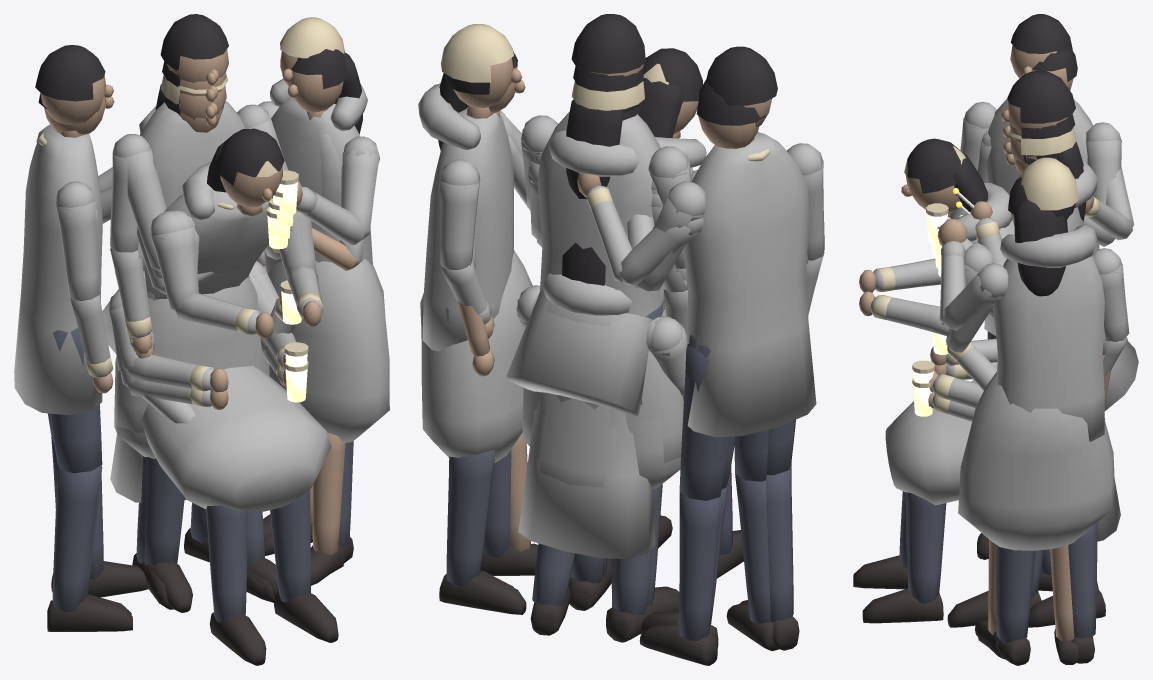
The model's file is people272.glb.
3 views of the same model, side by side, from view 1: azimuth 30°, elevation 25°; view 2: azimuth 150°, elevation 25°; view 3: azimuth 270°, elevation 25° (orthographic). The views are drawn at different scales.
Visible parts, largest first — view 1: f272-chat-BD.top, f272-bench-C.top, f272-chat-AC.topB, f272-lean-B.top, f272-chat-BD.topB, f272-drink-B.top, f272-chat-BD.bottom, f272-bench-D.bottom, f272-lean-C.top, f272-chat-AC.skinB, f272-chat-BD.shoe, f272-lean-D.top (+34 smaller); view 2: f272-chat-BD.top, f272-chat-BD.topB, f272-chat-AC.bottom, f272-bench-B.top, f272-chat-AC.topB, f272-lean-B.top, f272-smoke-B.top, f272-bench-D.top, f272-chat-BD.bottomB, f272-chat-BD.bottom, f272-drink-D.top, f272-chat-AC.top (+27 smaller); view 3: f272-chat-BD.topB, f272-chat-AC.topB, f272-bench-C.top, f272-chat-BD.top, f272-chat-BD.bottomB, f272-lean-B.top, f272-bench-D.bottom, f272-bench-B.shoe, f272-chat-AC.hairB, f272-chat-AC.skinB, f272-chat-BD.accentB, f272-lean-B.hair (+27 smaller).
Part boxes in pixels (x1,y1,x2,y2): f272-chat-BD.top: (14, 124, 112, 414); f272-bench-C.top: (141, 365, 331, 511); f272-chat-AC.topB: (268, 134, 389, 442); f272-lean-B.top: (102, 186, 323, 353); f272-chat-BD.topB: (257, 78, 380, 273); f272-drink-B.top: (110, 101, 288, 338); f272-chat-BD.bottom: (50, 328, 103, 611); f272-bench-D.bottom: (206, 489, 310, 622); f272-lean-C.top: (114, 206, 288, 432); f272-chat-AC.skinB: (287, 72, 355, 554); f272-chat-BD.shoe: (47, 561, 148, 631); f272-lean-D.top: (171, 161, 306, 294); f272-chat-BD.top: (627, 132, 824, 437); f272-chat-BD.topB: (418, 83, 523, 351); f272-chat-AC.bottom: (679, 344, 770, 640); f272-bench-B.top: (516, 285, 686, 558); f272-chat-AC.topB: (420, 135, 532, 463); f272-lean-B.top: (506, 167, 693, 416); f272-smoke-B.top: (521, 112, 691, 404); f272-bench-D.top: (532, 273, 663, 487); f272-chat-BD.bottomB: (445, 308, 511, 586); f272-chat-BD.bottom: (678, 335, 795, 625); f272-drink-D.top: (528, 130, 687, 336); f272-chat-AC.top: (586, 185, 808, 291); f272-chat-BD.topB: (939, 224, 1129, 441); f272-chat-AC.topB: (946, 303, 1115, 550); f272-bench-C.top: (885, 401, 971, 505); f272-chat-BD.top: (960, 98, 1121, 335); f272-chat-BD.bottomB: (996, 388, 1104, 642); f272-lean-B.top: (870, 207, 1138, 410); f272-bench-D.bottom: (899, 491, 946, 603); f272-bench-B.shoe: (853, 555, 943, 623); f272-chat-AC.hairB: (1008, 177, 1067, 296); f272-chat-AC.skinB: (946, 212, 1111, 640); f272-chat-BD.accentB: (1021, 157, 1078, 210); f272-lean-B.hair: (907, 138, 961, 193).
Bounding box in the file's own units: 1.2 × 1.85 × 0.9041.
